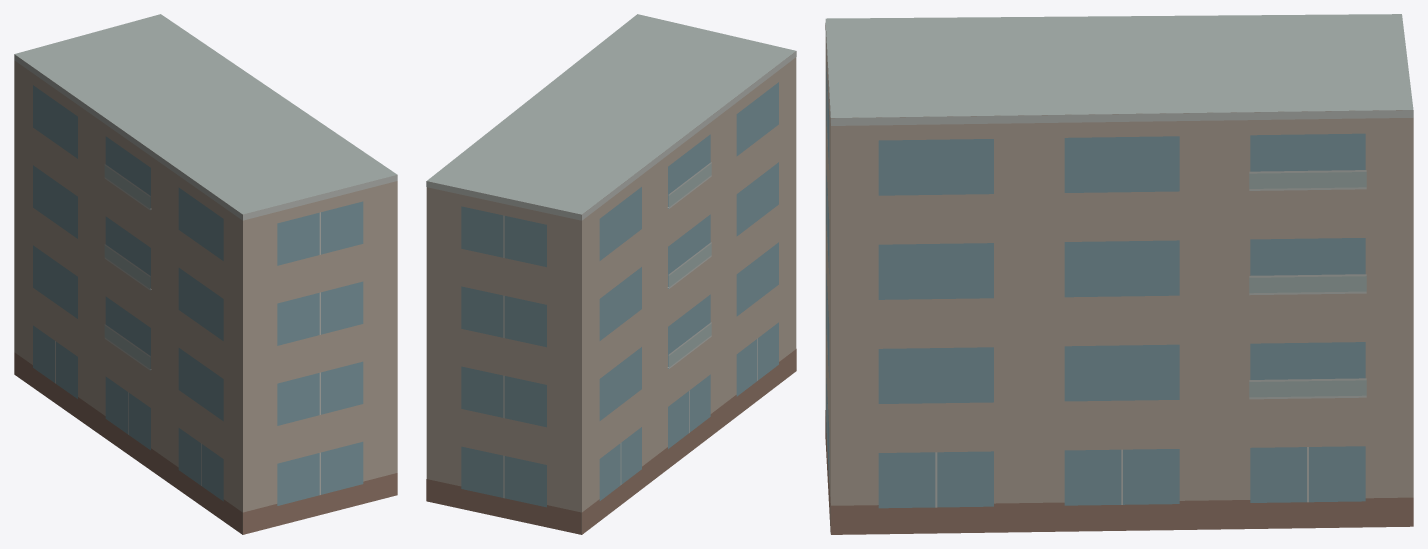
The model's file is survey-upis-33023375.glb.
The picture shows the model from 3 angles, left to right: view 1: azimuth 30°, elevation 25°; view 2: azimuth 150°, elevation 25°; view 3: azimuth 270°, elevation 25°; orthographic projection. The views are drawn at different scales.
Visible parts, largest first — view 1: survey-upis-33023375.tmp; view 2: survey-upis-33023375.tmp; view 3: survey-upis-33023375.tmp.
Part boxes in pixels (x1,y1,x2,y2): survey-upis-33023375.tmp: [14, 14, 397, 534]; survey-upis-33023375.tmp: [426, 14, 796, 534]; survey-upis-33023375.tmp: [825, 14, 1413, 534].
Size of the model in its own units: 6.86 by 12.8 by 16.38.
